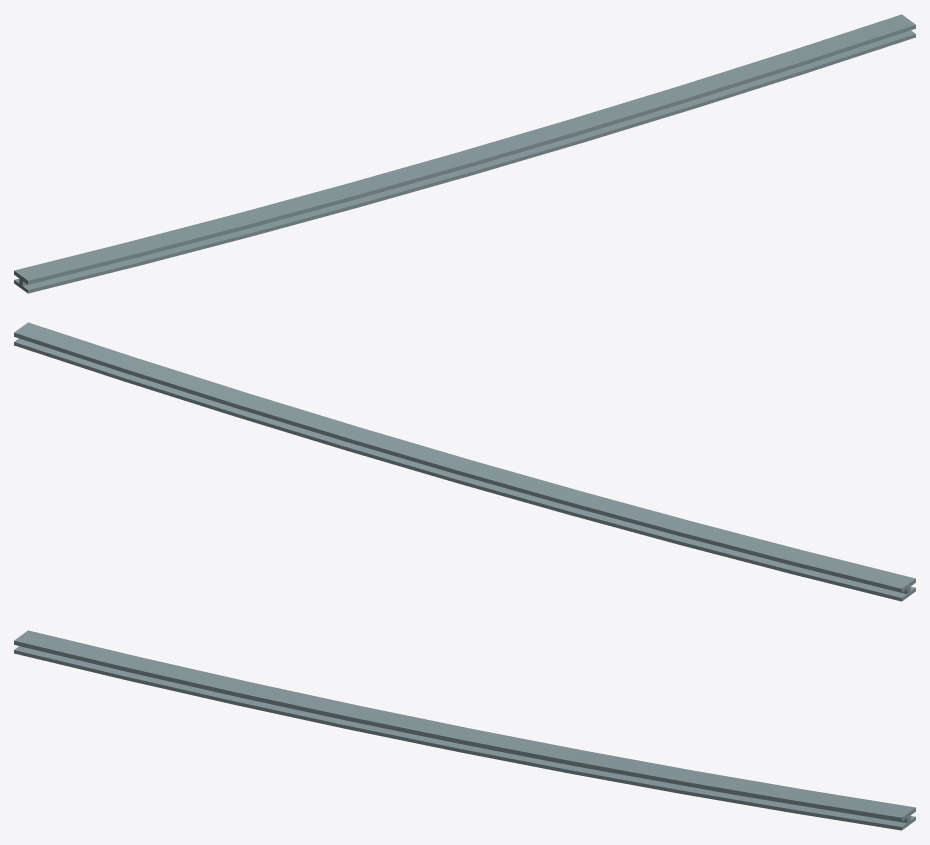
File: RoadPlan_RampStructure_2L_Rise8_L110_LowerVerticalCurve_Girder_1.glb
3 views of the same model, one above another, from view 1: azimuth 30°, elevation 25°; view 2: azimuth 150°, elevation 25°; view 3: azimuth 330°, elevation 25° (orthographic).
Parts seen in each view (by area): view 1: RoadPlan_RampStructure_2L_Rise8_L110_LowerVerticalCurve_Gird; view 2: RoadPlan_RampStructure_2L_Rise8_L110_LowerVerticalCurve_Gird; view 3: RoadPlan_RampStructure_2L_Rise8_L110_LowerVerticalCurve_Gird.
Boxes of the visible parts, x1=… form: RoadPlan_RampStructure_2L_Rise8_L110_LowerVerticalCurve_Gird: x1=14, y1=14, x2=915, y2=293; RoadPlan_RampStructure_2L_Rise8_L110_LowerVerticalCurve_Gird: x1=14, y1=322, x2=915, y2=601; RoadPlan_RampStructure_2L_Rise8_L110_LowerVerticalCurve_Gird: x1=14, y1=630, x2=915, y2=830.
Size of the model in its own units: 16 by 0.9009 by 0.44.
